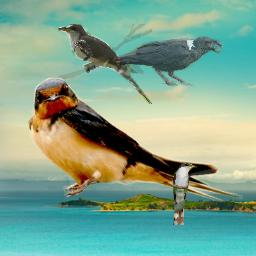Crow: (112, 35, 223, 87)
Cuckoo: (58, 24, 152, 104), (172, 162, 197, 225)
Swallow: (26, 77, 243, 210)
